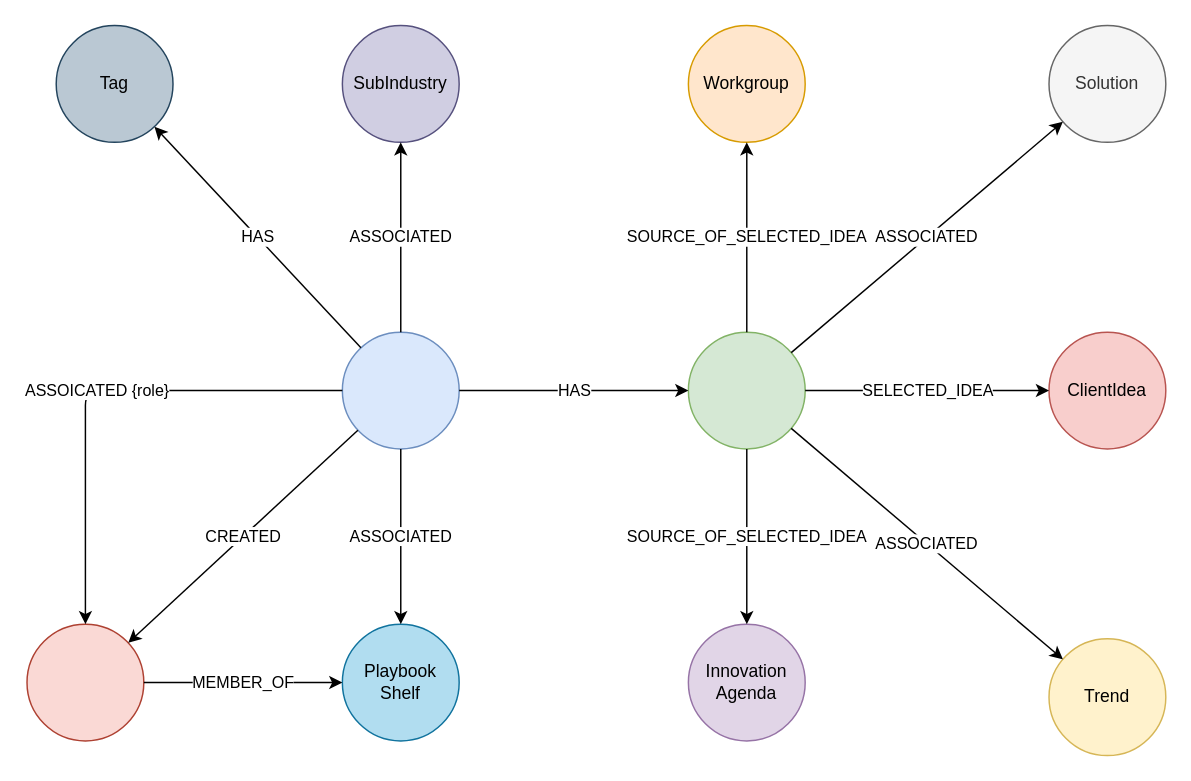
Image size: 1191x781. Some labels were removed from this diagram. Here are the shapes that lost their labels. From the top down, the centre of each, then its label:
(400,390): Playbook
(746,390): Playbook Section
(85,682): Person
